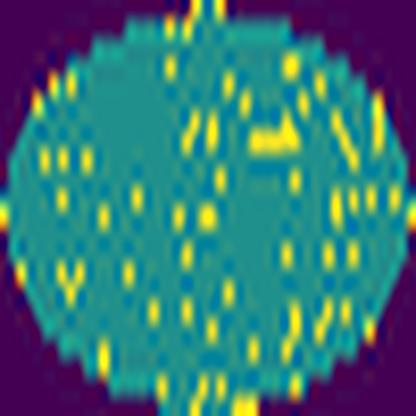Scratch: (246, 102, 304, 162)
